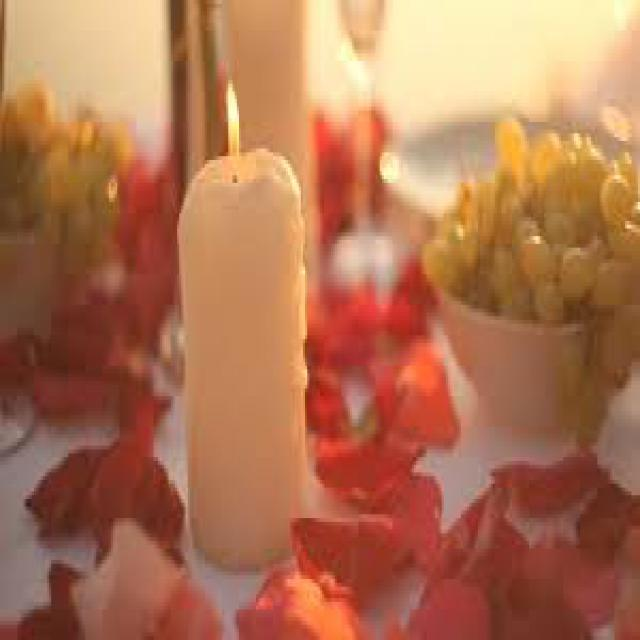fire: (223, 81, 250, 180)
